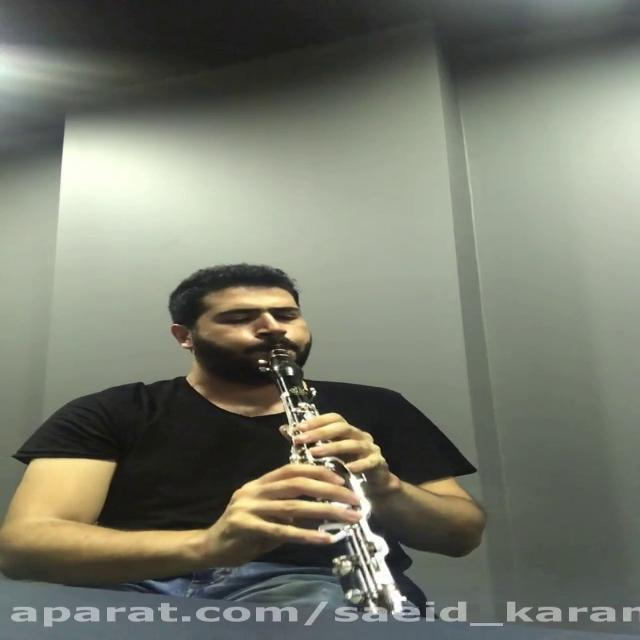Clarinet: (247, 344, 436, 620)
